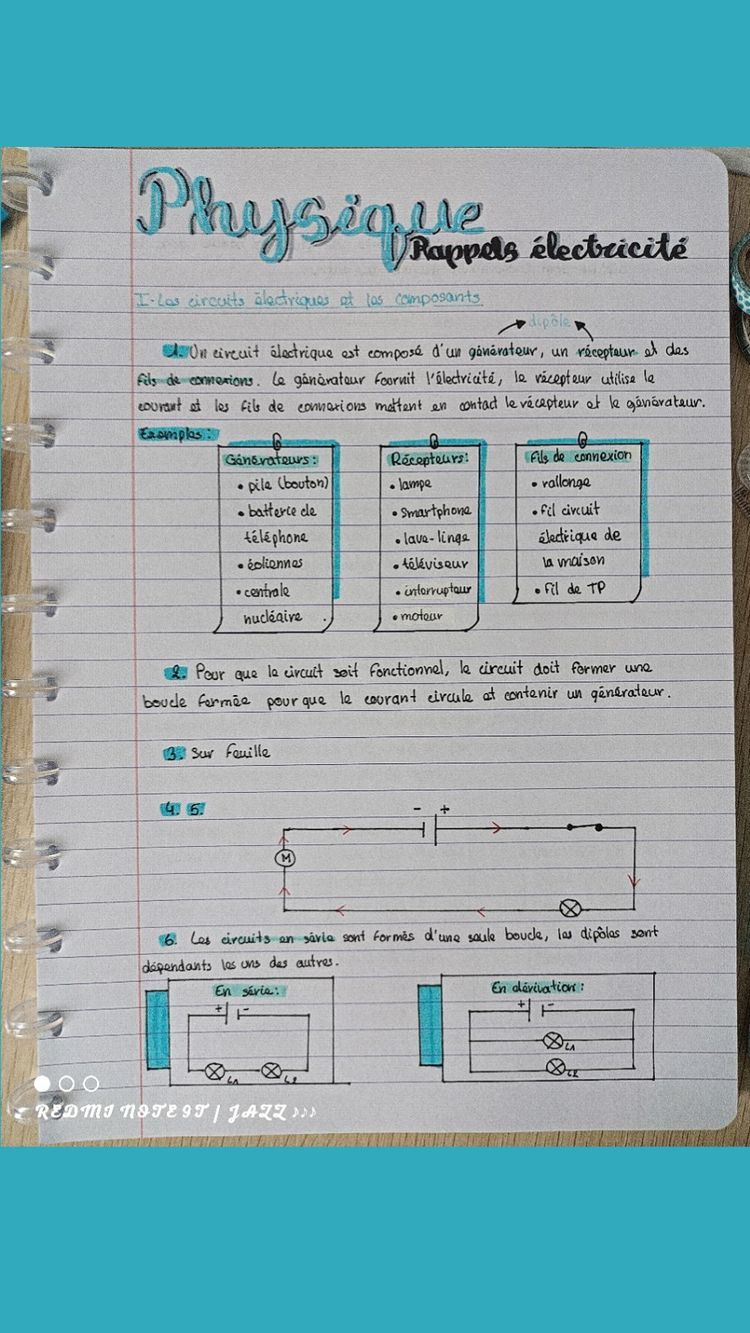page: (67, 153, 730, 1121)
